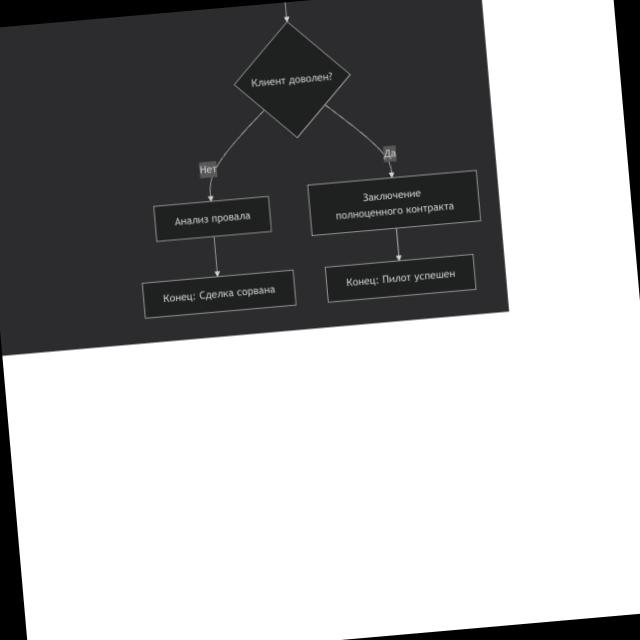arrow: (326, 104, 393, 177), (216, 110, 263, 167), (213, 237, 220, 276), (396, 229, 401, 260), (285, 2, 289, 21)
diamond: (236, 23, 349, 136)
rectangle: (308, 170, 480, 235), (326, 254, 476, 303), (143, 270, 296, 318), (154, 197, 271, 241)
text_region: (377, 144, 405, 162), (194, 161, 220, 178)
